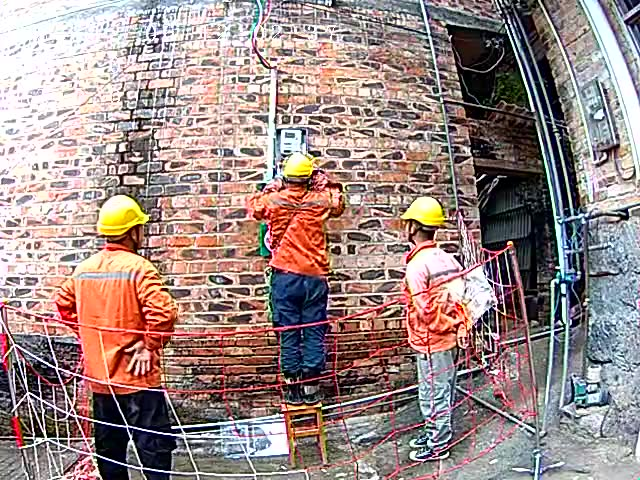badge: (55, 300, 79, 329)
downcloth: (410, 354, 460, 437)
downsuit: (92, 391, 177, 480), (270, 277, 331, 378)
halt: (98, 195, 151, 244), (398, 196, 445, 245), (277, 153, 317, 186)
hand: (122, 341, 154, 377), (453, 322, 469, 350)
inear: (404, 217, 421, 242)
person: (54, 193, 183, 479), (248, 152, 345, 404), (392, 195, 479, 460)
yupsuit: (54, 249, 179, 385), (250, 181, 342, 270), (401, 239, 471, 349)
